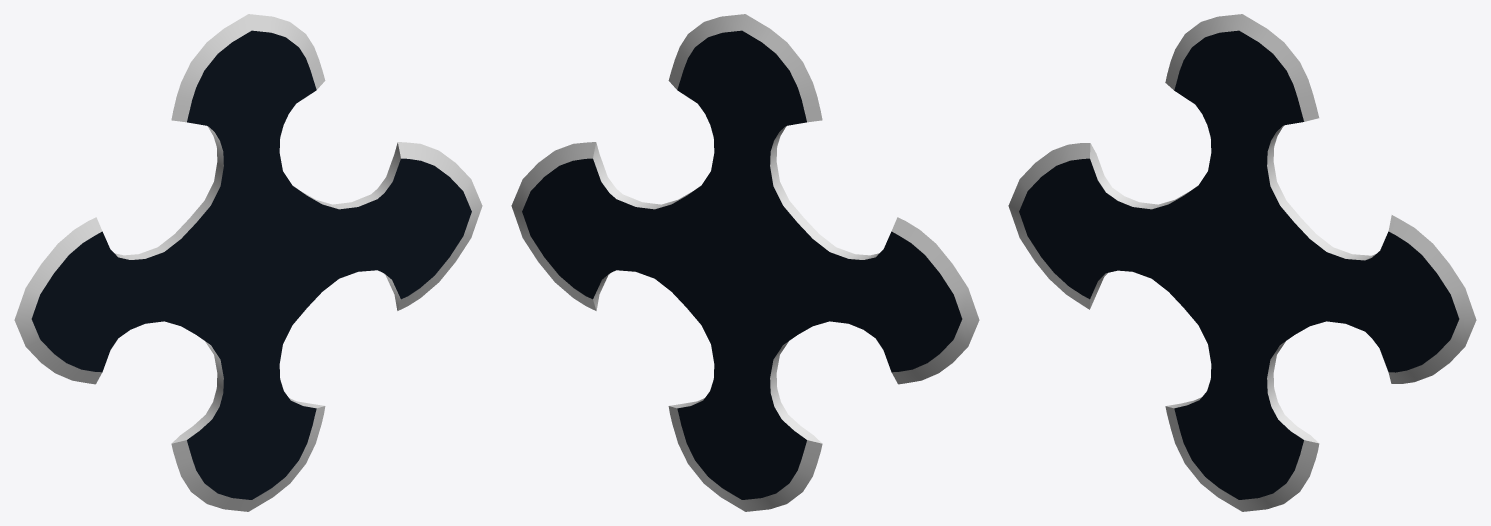
The model's file is shuriken-by-ipoly3d-BzA4pgXN8S.glb.
3 views of the same model, side by side, from view 1: azimuth 30°, elevation 25°; view 2: azimuth 150°, elevation 25°; view 3: azimuth 330°, elevation 25° (orthographic).
Parts seen in each view (by area): view 1: Shuriken_9; view 2: Shuriken_9; view 3: Shuriken_9.
Part boxes in pixels (x1=…): Shuriken_9: x1=14, y1=14, x2=482, y2=511; Shuriken_9: x1=511, y1=14, x2=979, y2=511; Shuriken_9: x1=1008, y1=14, x2=1476, y2=511.
Bounding box in the file's own units: 2.35 × 2.39 × 0.057.
